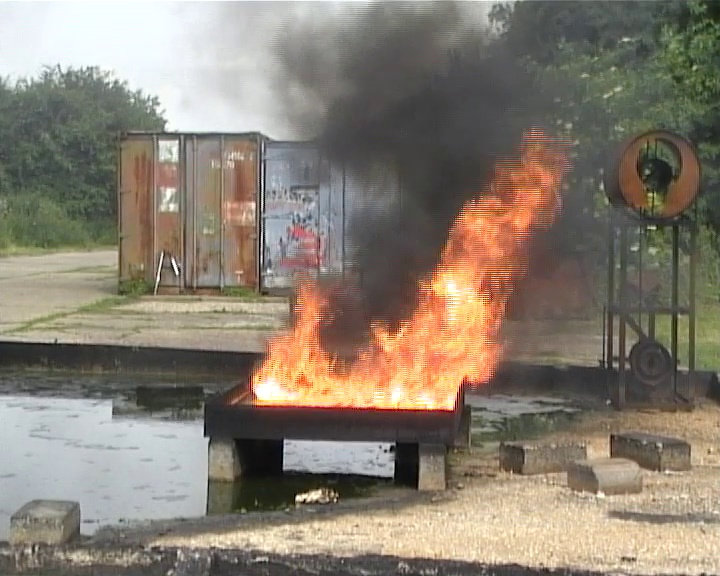fire: (250, 153, 547, 408)
